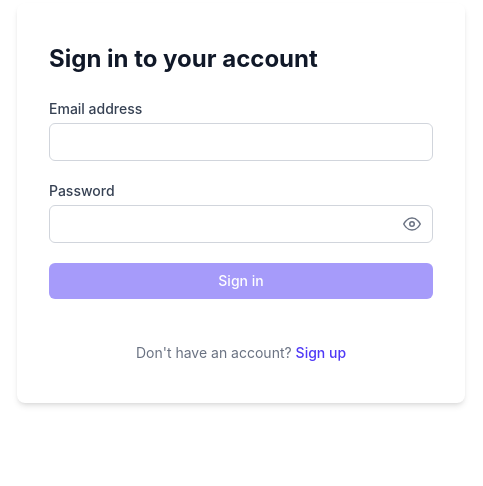
LoginForm › AC-19: 401 → form-level error shown, password cleared, email preserved
Type "user@example.com" into the field labelled "Email address" at (241, 142), box x1=49 y1=123 x2=433 y2=161
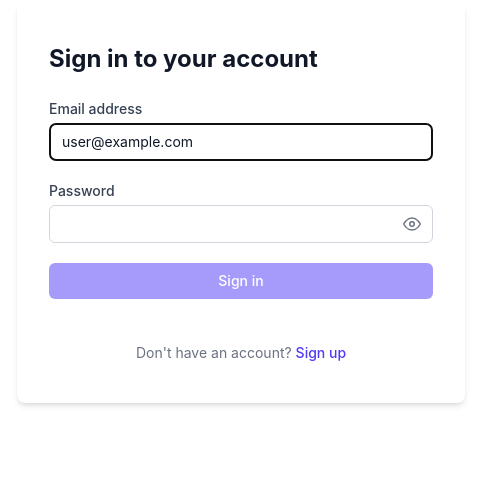
Type "wrongpassword" into the password field labelled "Password" at (241, 224), box x1=49 y1=205 x2=433 y2=243
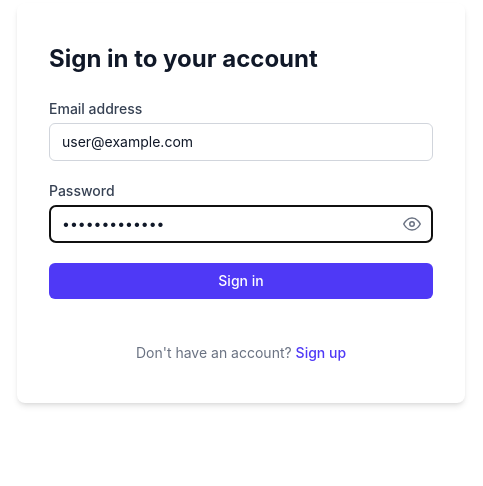
Click the button "Sign in" at (241, 281), box x1=49 y1=263 x2=433 y2=299
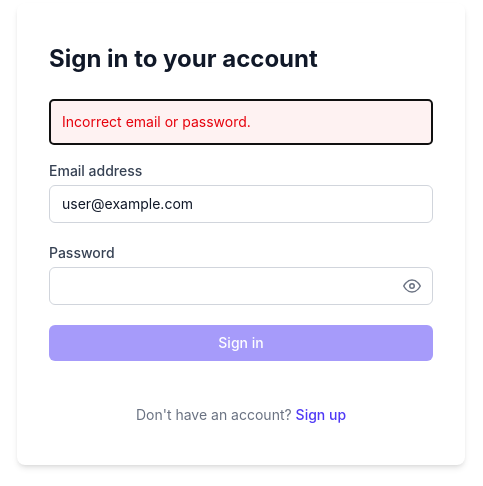
Expected: the message reads "Incorrect email or password.", x1=62 y1=113 x2=251 y2=130
Expected: the password field labelled "Password" is empty, x1=49 y1=267 x2=433 y2=305
